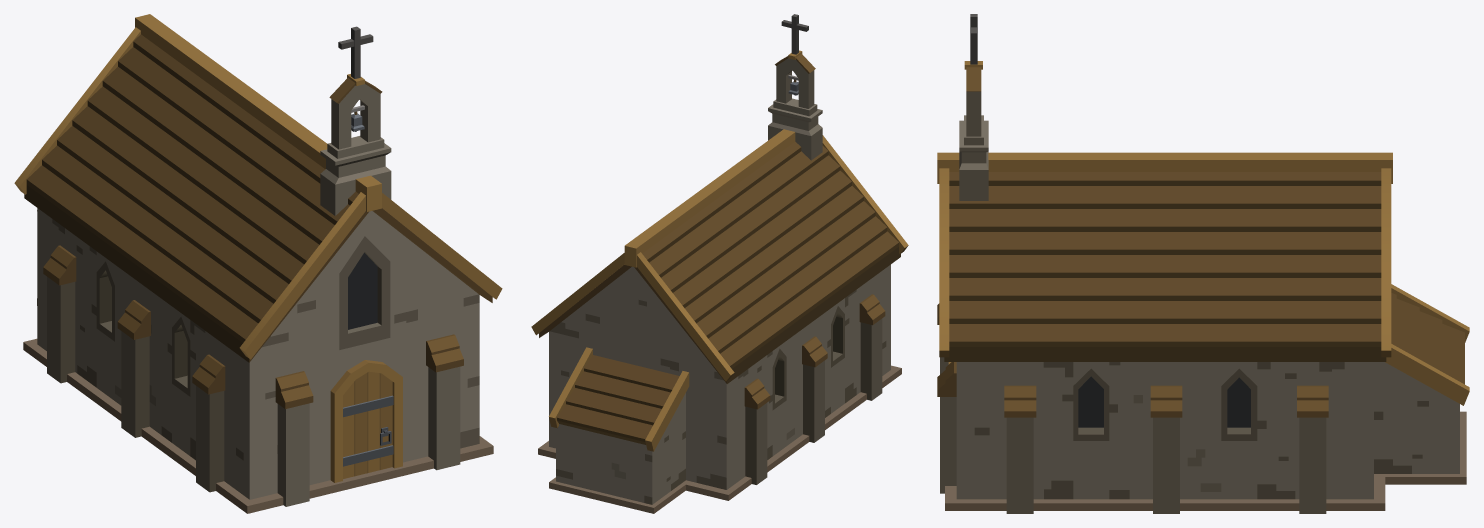
Rendered from SF_Bld_House_Church_01.fbx.
The picture shows the model from 3 angles, left to right: view 1: azimuth 30°, elevation 25°; view 2: azimuth 150°, elevation 25°; view 3: azimuth 270°, elevation 25°; orthographic projection. The views are drawn at different scales.
Parts seen in each view (by area): view 1: SF_Bld_House_Church_01; view 2: SF_Bld_House_Church_01; view 3: SF_Bld_House_Church_01.
Boxes of the visible parts, x1,y1,x2,y2 form: SF_Bld_House_Church_01: (14, 14, 502, 513); SF_Bld_House_Church_01: (531, 14, 908, 513); SF_Bld_House_Church_01: (937, 14, 1469, 513).
Bounding box in the file's own units: 10.23 × 16.46 × 18.2.
